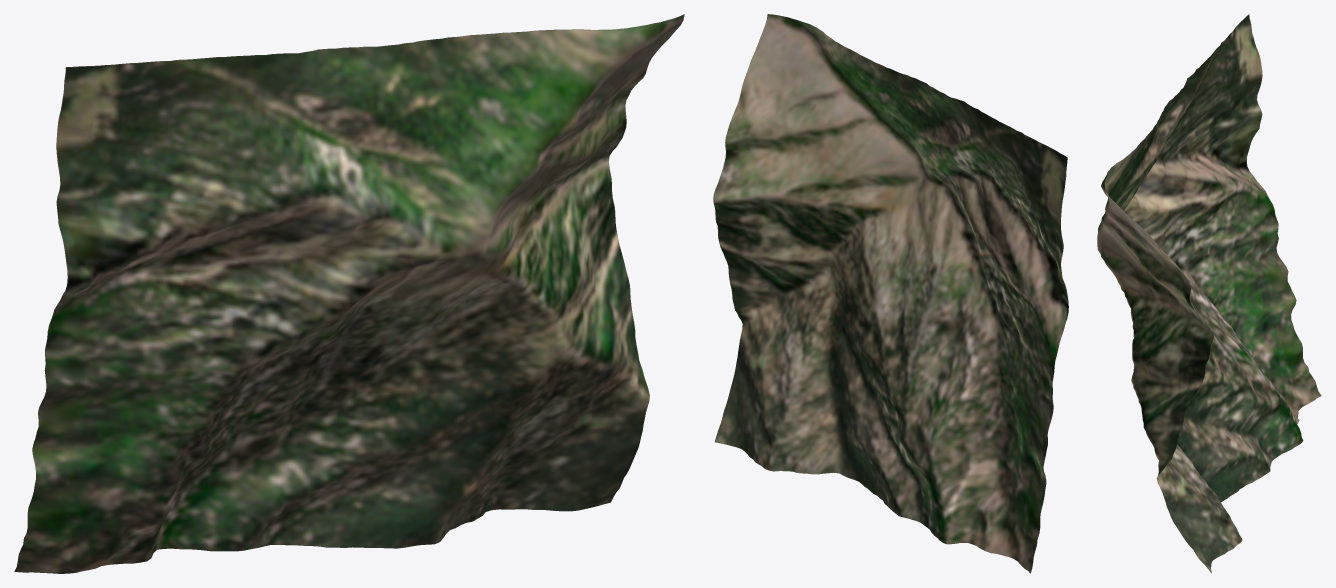
Rendered from ground_far_00_02.obj.
The picture shows the model from 3 angles, left to right: view 1: azimuth 30°, elevation 25°; view 2: azimuth 150°, elevation 25°; view 3: azimuth 270°, elevation 25°; orthographic projection. The views are drawn at different scales.
Visible parts, largest first — view 1: ground_far_00_02; view 2: ground_far_00_02; view 3: ground_far_00_02.
Boxes of the visible parts, x1,y1,x2,y2 form: ground_far_00_02: (14, 14, 684, 573); ground_far_00_02: (713, 14, 1068, 573); ground_far_00_02: (1097, 14, 1321, 573).
Size of the model in its own units: 2000 by 2000 by 1066.
Materials: 1 (1 with a texture image).
